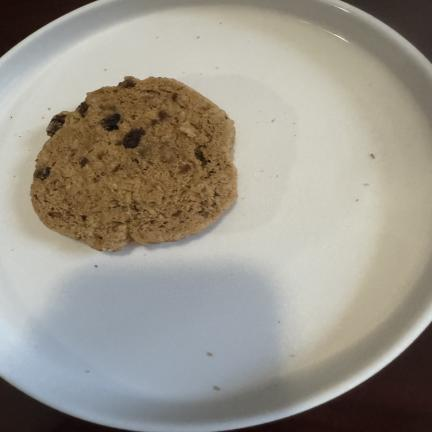cookie: (31, 77, 236, 250)
